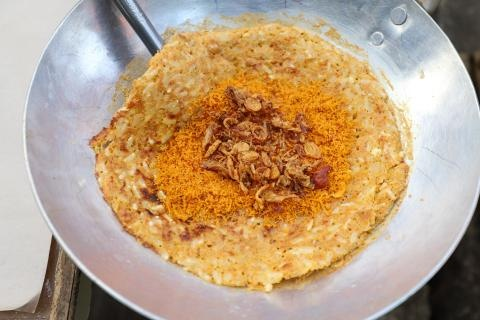kerak_telor: (82, 23, 407, 289)
